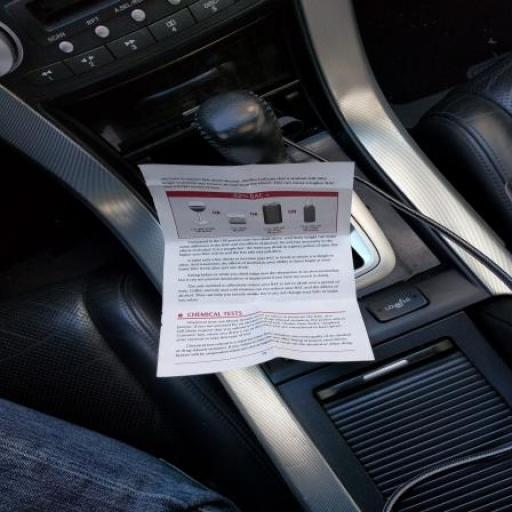paper: (87, 136, 446, 398)
